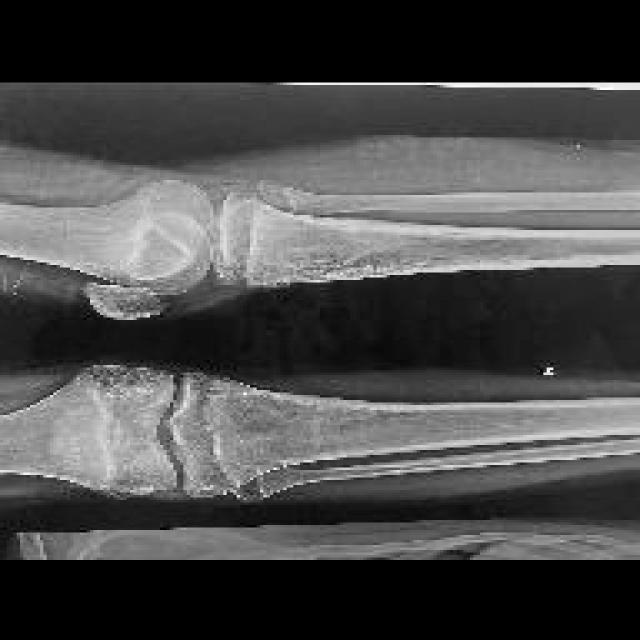bone-cancer: (210, 380, 372, 464), (241, 205, 400, 285)
